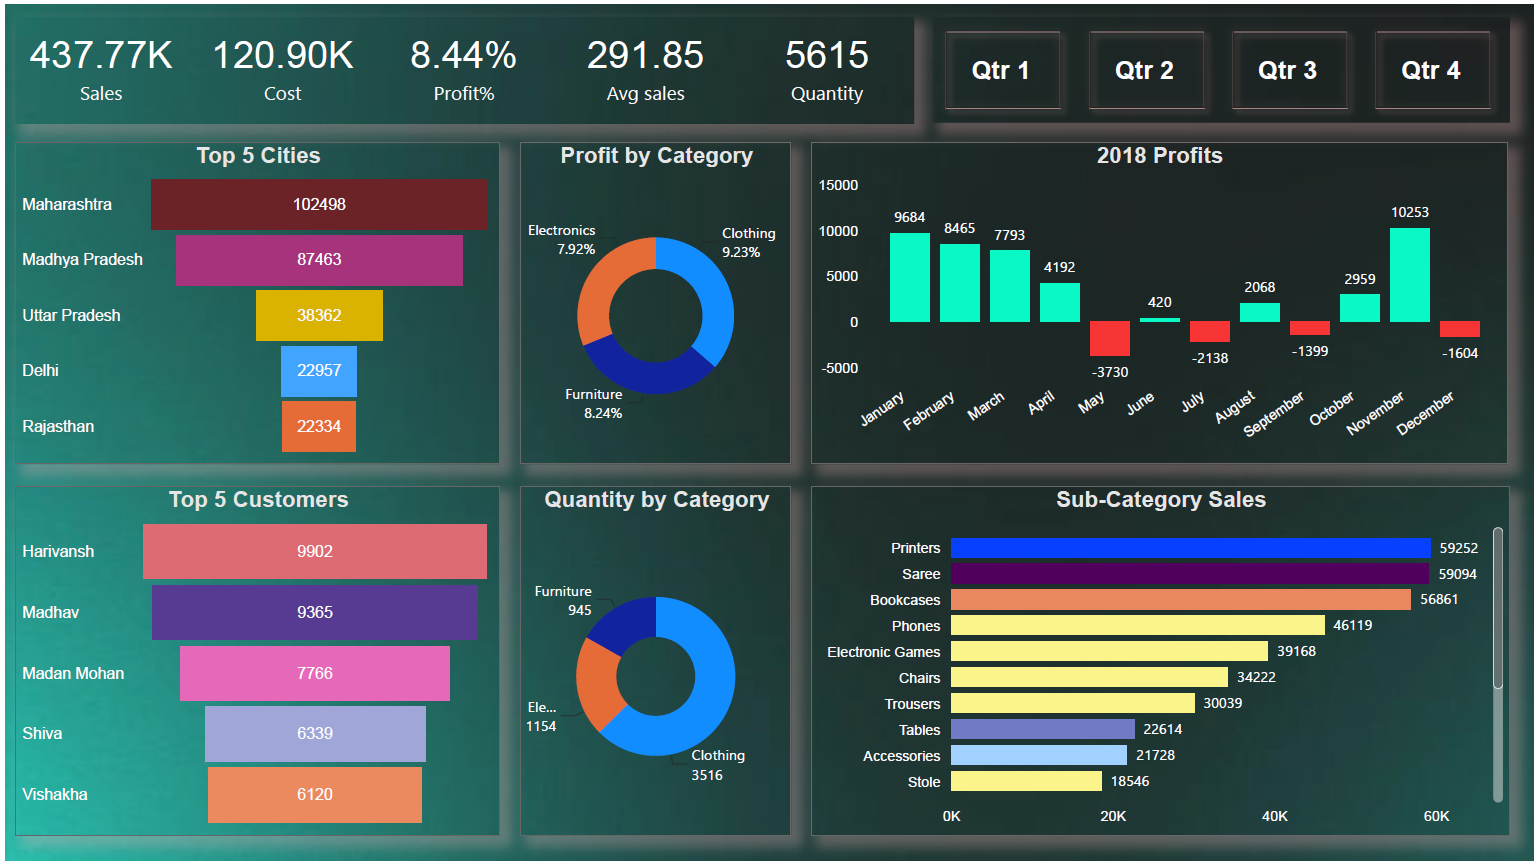

Layout of this report page (visuals, bound fields, positions):
{"tool":"powerbi","page":{"name":"Page 1","canvas":[1280,720],"ordinal":0},"visuals":[{"type":"columnChart","title":"2018 Profits","fields":{"Category":["Orders.Order Date.Variation.Date Hierarchy.Month"],"Y":["Sum(Details.Profit)"]},"box":[674.4,114.6,583.9,270.2],"z":0},{"type":"barChart","title":"Sub-Category Sales","fields":{"Category":["Details.Sub-Category"],"Y":["Sum(Details.Amount)"]},"box":[674.4,403,585.1,293.2],"z":1000},{"type":"donutChart","title":"Profit by Category","fields":{"Category":["Details.Category"],"Y":["Details.Profit%"]},"box":[430.7,114.6,226.8,270.2],"z":2000},{"type":"funnel","title":"Top 5 Customers","fields":{"Category":["Orders.CustomerName"],"Y":["Sum(Details.Amount)"]},"box":[8.4,403,405.4,293.2],"z":3000},{"type":"cardVisual","fields":{"Data":["Sum(Details.Amount)","Sum(Details.Cost)","Details.Profit%","Details.Avg","Sum(Details.Quantity)"]},"box":[8.4,9.7,752.8,90.5],"z":4000},{"type":"advancedSlicerVisual","fields":{"Values":["Orders.Order Date.Variation.Date Hierarchy.Quarter"]},"box":[775.7,9.7,483.8,89.3],"z":5000},{"type":"funnel","title":"Top 5 Cities","fields":{"Y":["Sum(Details.Amount)"],"Category":["Orders.State"]},"box":[8.4,114.6,405.4,270.2],"z":6000},{"type":"donutChart","title":"Quantity by Category","fields":{"Category":["Details.Category"],"Y":["Sum(Details.Quantity)"]},"box":[430.7,403,226.8,293.2],"z":7000}]}

Visuals, with their boxes in screenshot pixels (x1, y1, x2, y2), scaled from the page's 1280x720 canvas onto the 1536x862 screenshot:
"2018 Profits" columnChart: 809, 137, 1510, 461
"Sub-Category Sales" barChart: 809, 482, 1511, 834
"Profit by Category" donutChart: 517, 137, 789, 461
"Top 5 Customers" funnel: 10, 482, 497, 834
cardVisual - Sum(Details.Amount) x Sum(Details.Cost): 10, 12, 913, 120
advancedSlicerVisual - Orders.Order Date.Variation.Date Hierarchy.Quarter: 931, 12, 1511, 119
"Top 5 Cities" funnel: 10, 137, 497, 461
"Quantity by Category" donutChart: 517, 482, 789, 834
